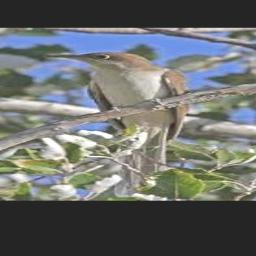Cuckoo: (47, 53, 190, 192)
